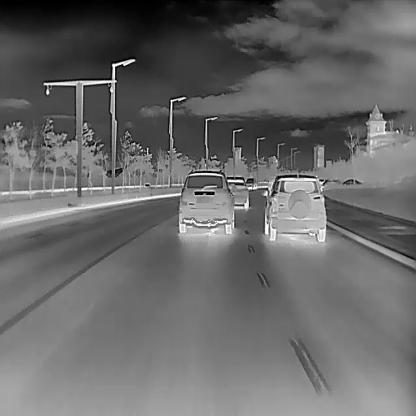car: (261, 173, 326, 242), (178, 168, 237, 233), (226, 175, 249, 210), (344, 177, 362, 185), (245, 177, 256, 189)
